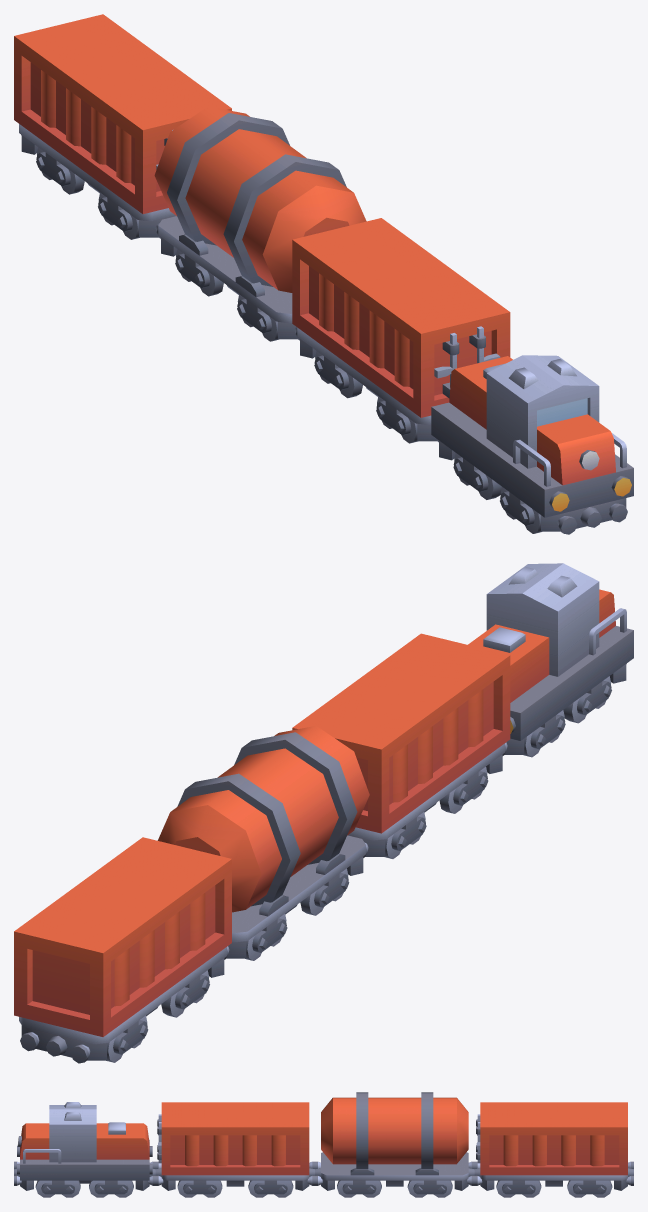
Rendered from commercial-train-transformed.glb.
The picture shows the model from 3 angles, top to bottom: view 1: azimuth 30°, elevation 25°; view 2: azimuth 150°, elevation 25°; view 3: azimuth 270°, elevation 25°; orthographic projection. The views are drawn at different scales.
Visible parts, largest first — view 1: train-carriage-container-red; view 2: train-carriage-container-red; view 3: train-carriage-container-red.
Part boxes in pixels (x1,y1,x2,y2): train-carriage-container-red: (14, 14, 633, 534); train-carriage-container-red: (14, 563, 633, 1063); train-carriage-container-red: (14, 1092, 633, 1197).
Bounding box in the file's own units: 1.39 × 1.75 × 10.5.
1 material, 1 textured.
